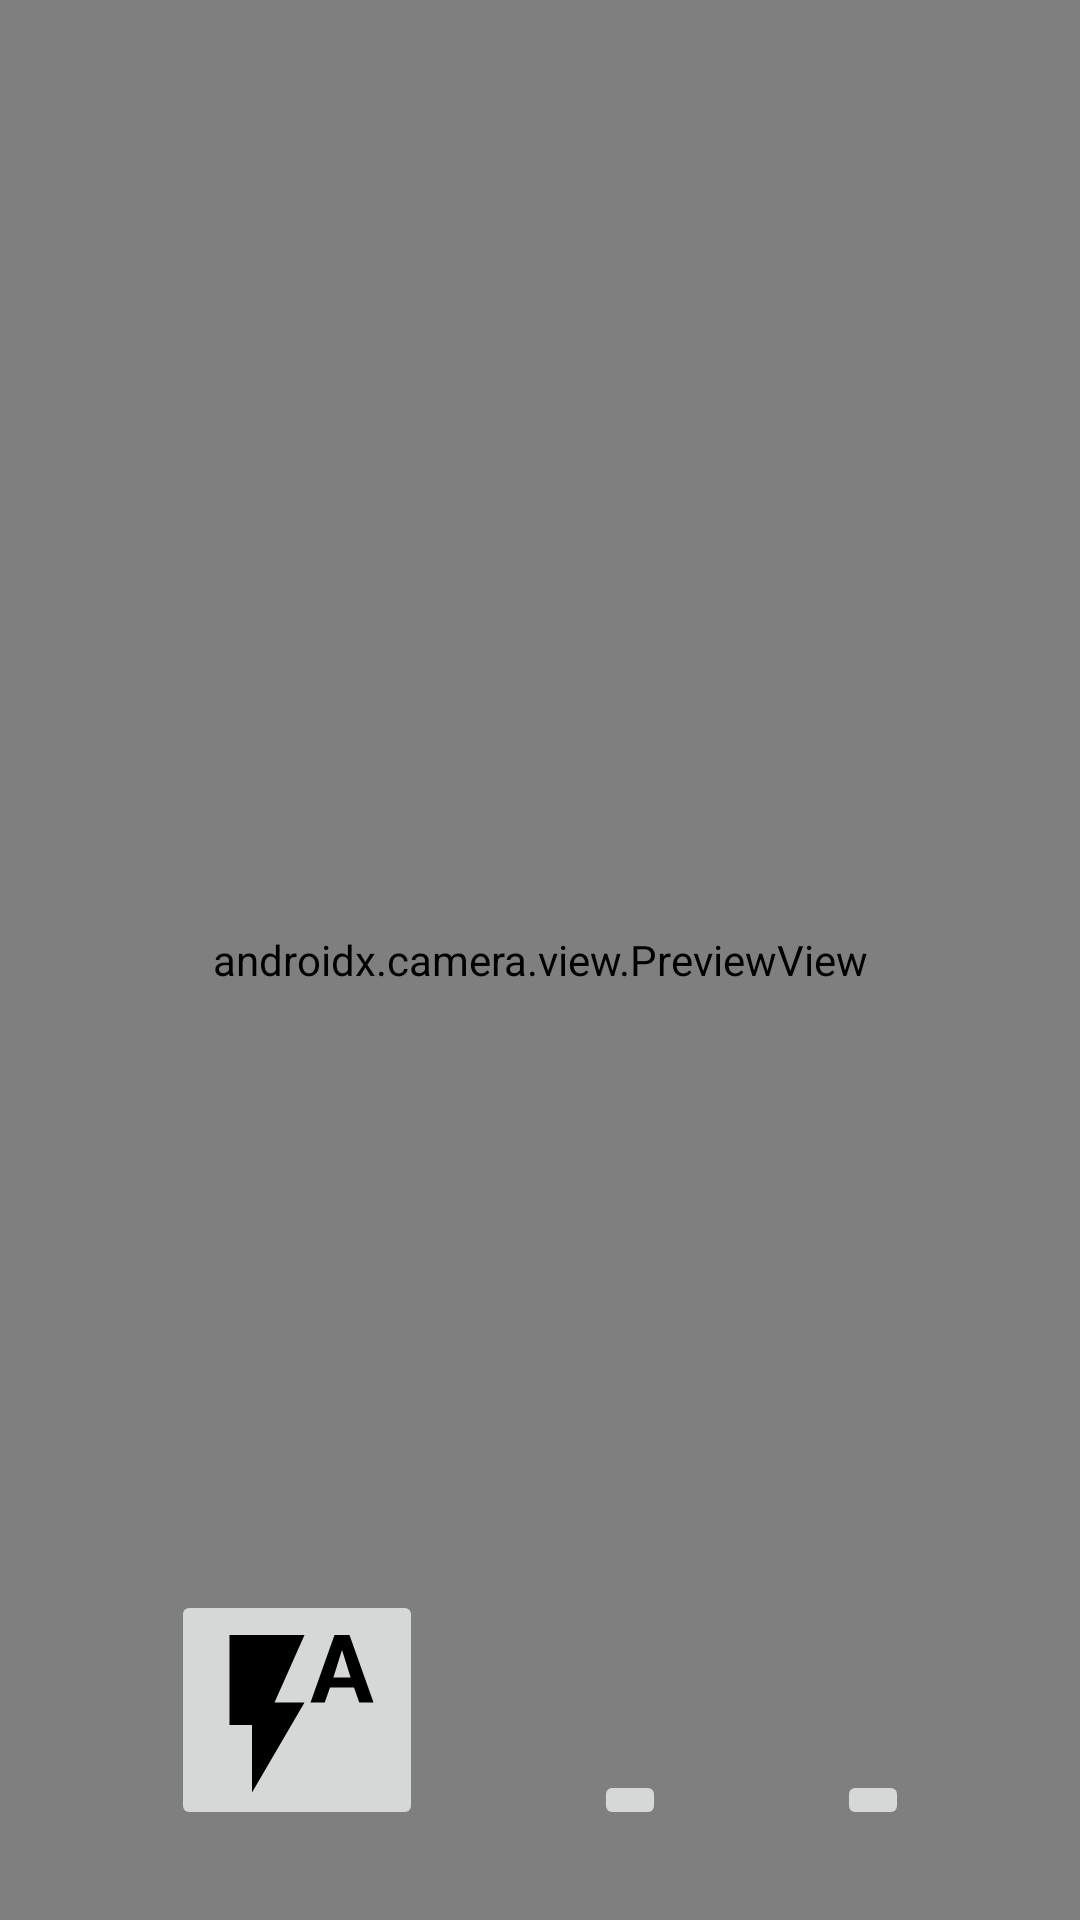

Screen size 1080px x 1920px. Icon name, then its box in pixels as (x1, y1, x2, y2):
flash auto: (183, 1608, 411, 1812)
